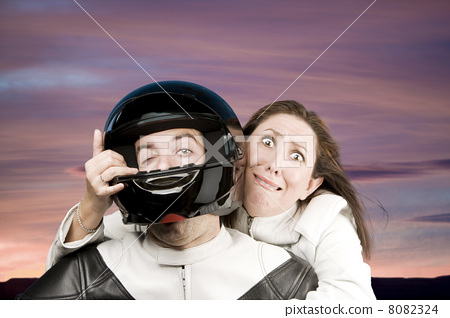helmet: (95, 72, 246, 222)
